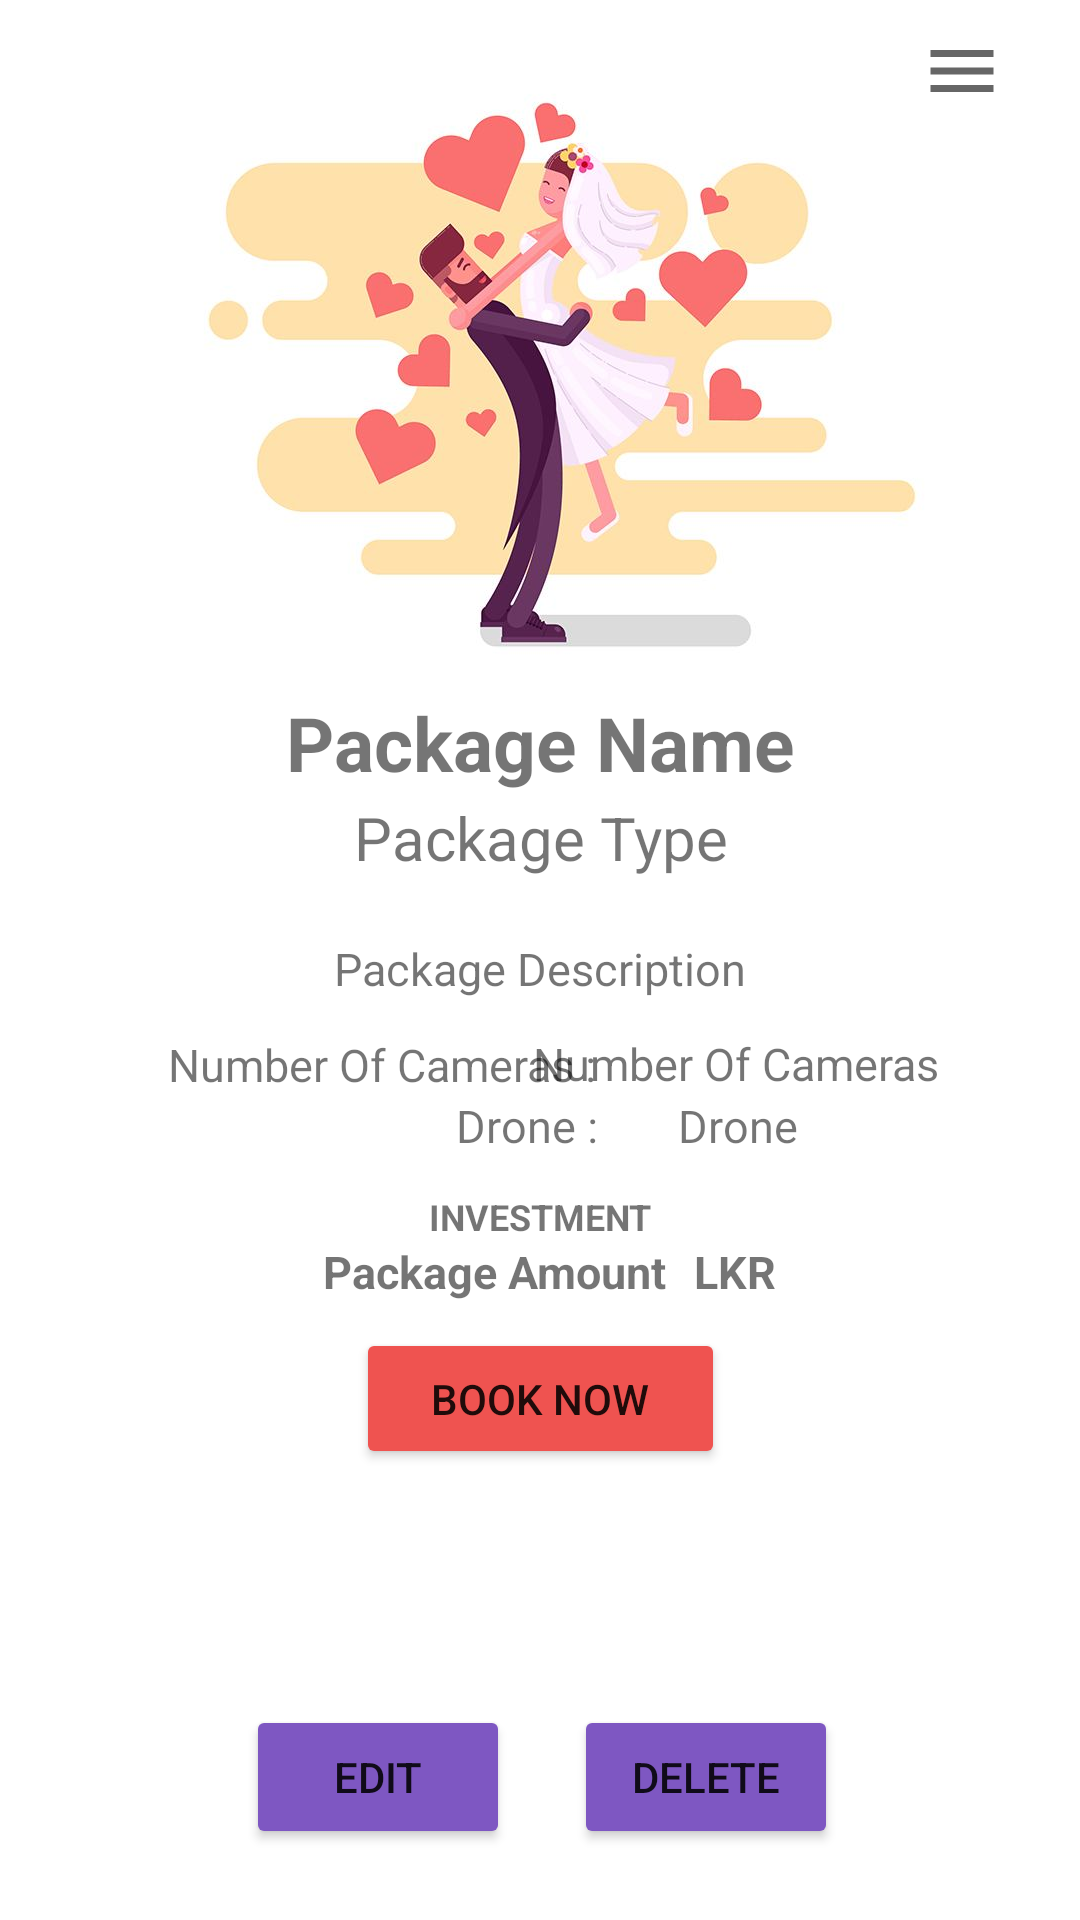

Icons on this 1080px×1920px Android screen, each with the point to tap as (x=x, y=y):
menu: (x=962, y=71)
